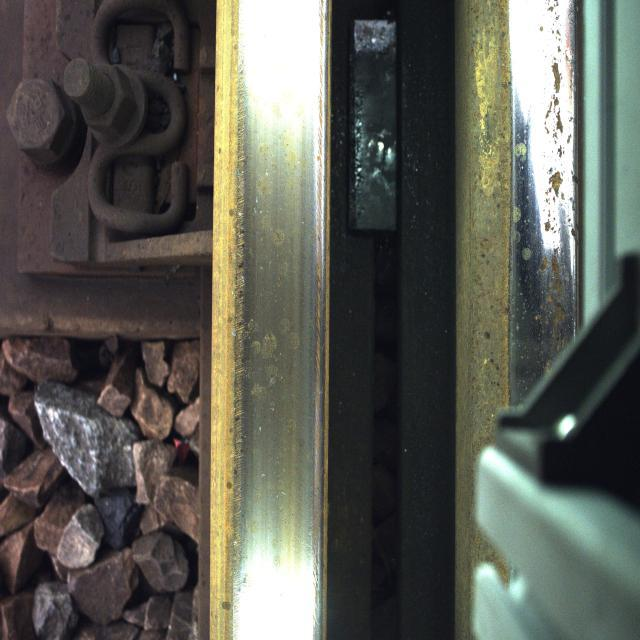scar: (218, 5, 278, 623), (519, 0, 586, 356)
